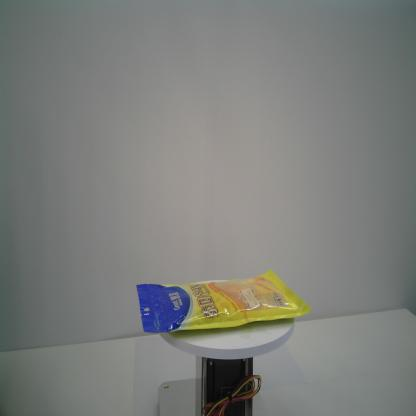Dried Fruit: (135, 267, 312, 340)
